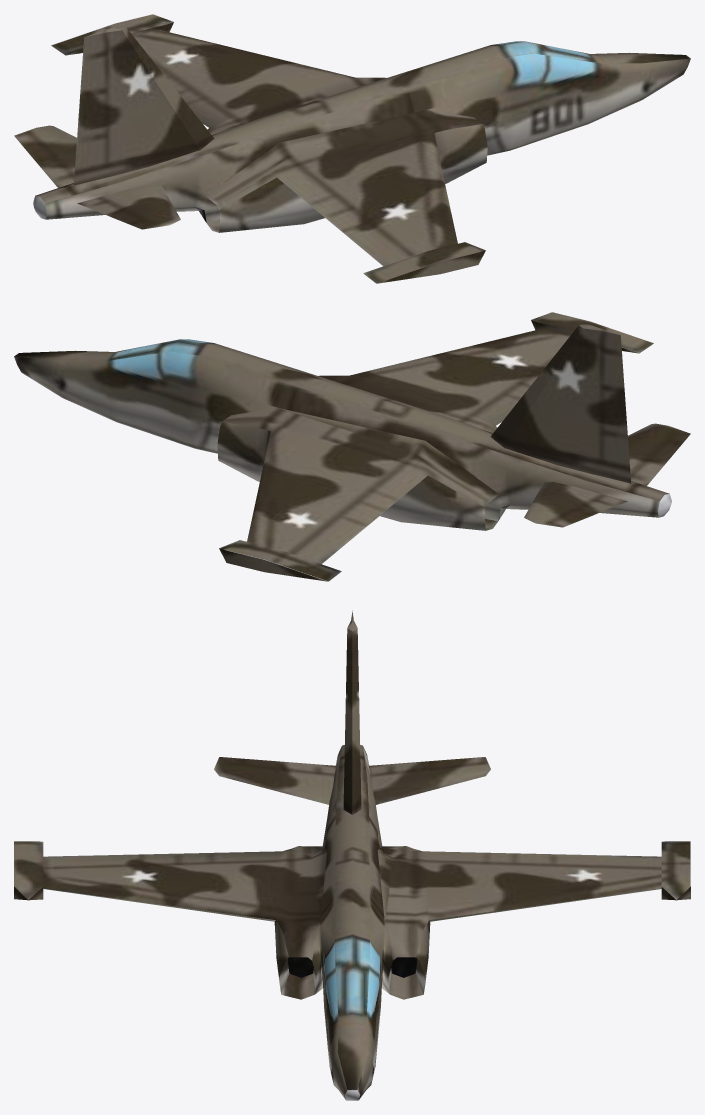
File: samolet.FBX
3 renders of one model, top to bottom at view 1: azimuth 30°, elevation 25°; view 2: azimuth 150°, elevation 25°; view 3: azimuth 270°, elevation 25°, orthographic. The views are drawn at different scales.
Parts seen in each view (by area): view 1: su-25; view 2: su-25; view 3: su-25.
Boxes of the visible parts, x1,y1,x2,y2 form: su-25: [14, 14, 690, 283]; su-25: [14, 312, 690, 581]; su-25: [14, 610, 690, 1100].
Size of the model in its own units: 43.65 by 13.81 by 37.63.
Materials: 1 (1 with a texture image).
